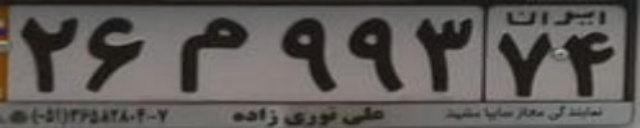2: (19, 16, 77, 95)
3: (411, 17, 471, 91)
4: (561, 30, 614, 97)
6: (85, 15, 142, 92)
7: (493, 30, 549, 98)
9: (346, 15, 404, 92), (281, 17, 335, 91)
lam: (178, 17, 250, 94)
